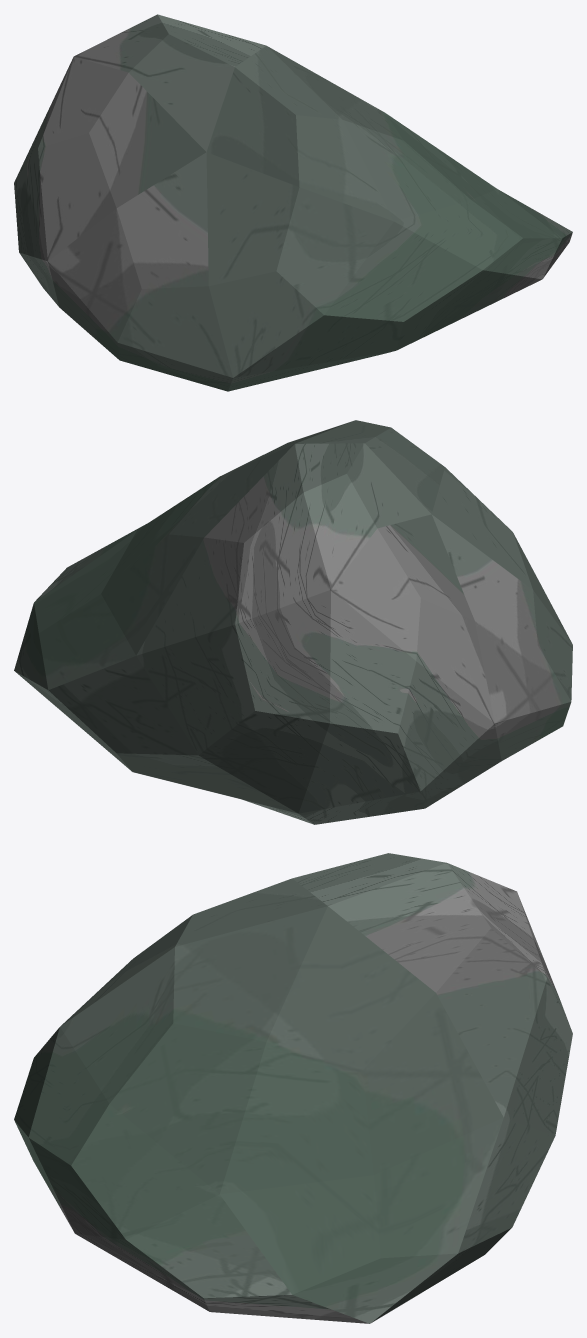
Rendered from Rock 1-2.fbx.
3 views of the same model, one above another, from view 1: azimuth 30°, elevation 25°; view 2: azimuth 150°, elevation 25°; view 3: azimuth 270°, elevation 25° (orthographic). The views are drawn at different scales.
Parts seen in each view (by area): view 1: Icosphere; view 2: Icosphere; view 3: Icosphere.
Boxes of the visible parts, bbox=[...] form: Icosphere: bbox=[14, 14, 572, 391]; Icosphere: bbox=[14, 420, 572, 824]; Icosphere: bbox=[14, 853, 572, 1323].
Size of the model in its own units: 155 by 91.08 by 142.
